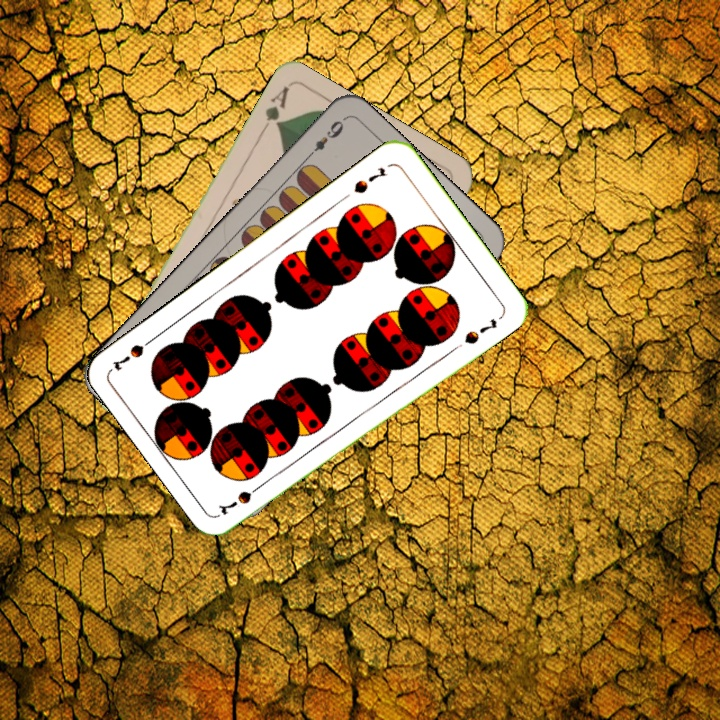E9: (302, 116, 347, 162)
GA: (256, 82, 292, 137)
S7: (216, 478, 268, 518), (349, 162, 389, 197)
